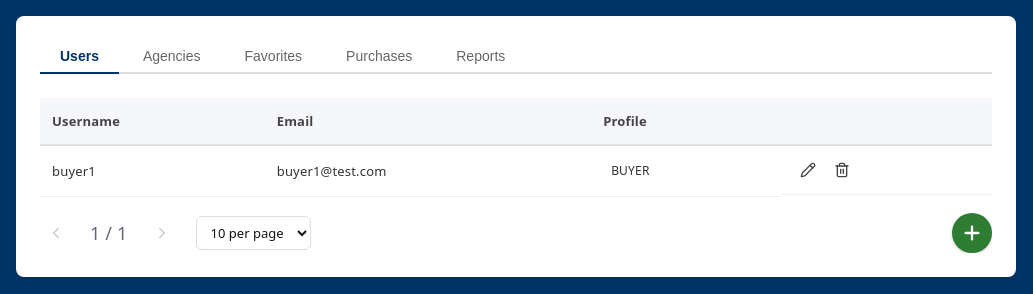
Test: AdminPage › switches to the agencies tab
The width and height of the screenshot is (1033, 294).
Click the button with test id "tab-agencies". click: [172, 57]
box: [123,40,220,74]
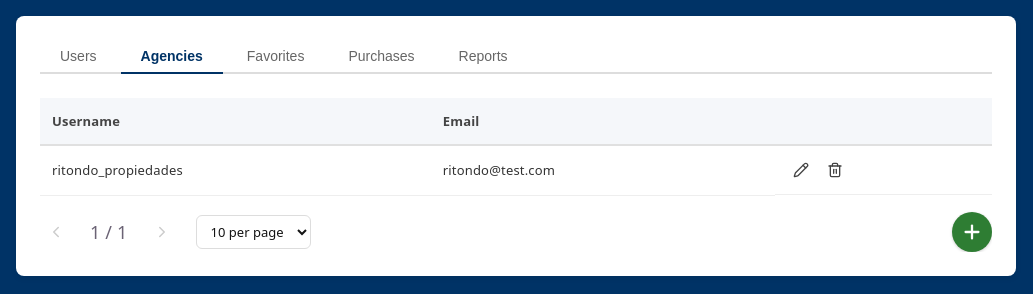
Expected: the text "ritondo_propiedades" is shown, [40,145,431,195]
